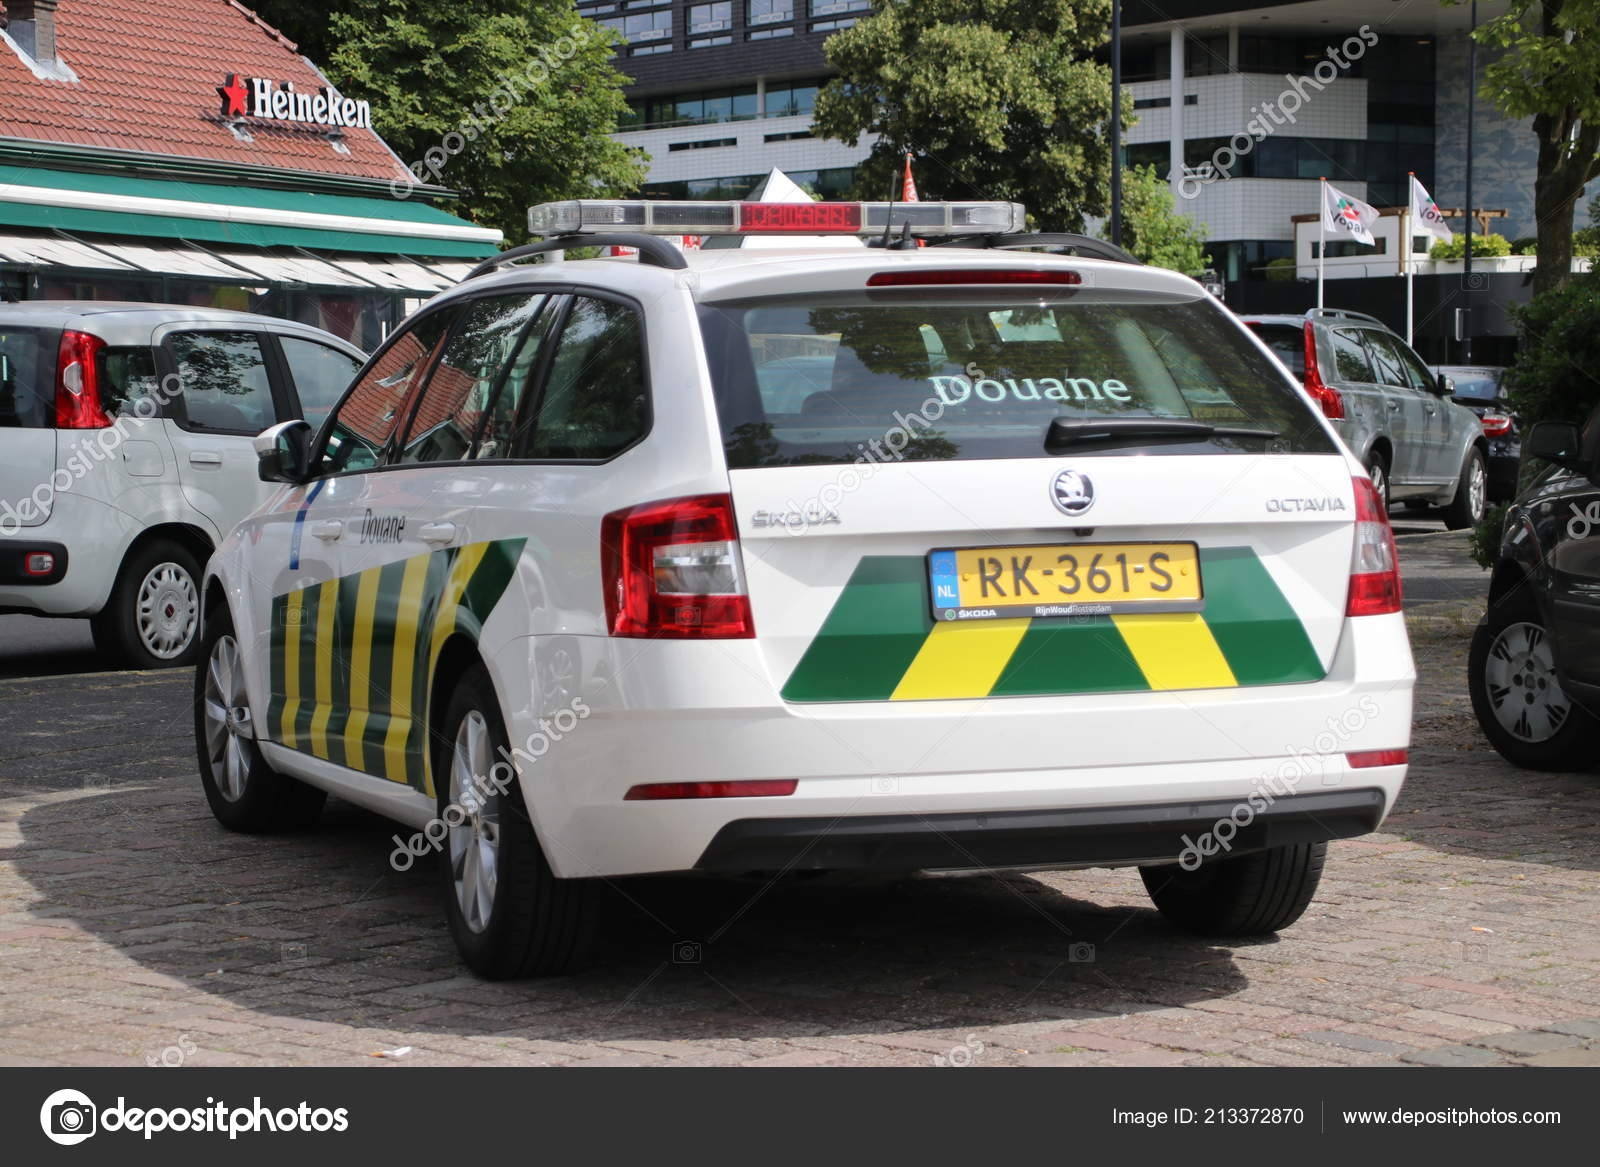number_plate: (928, 543, 1219, 606)
